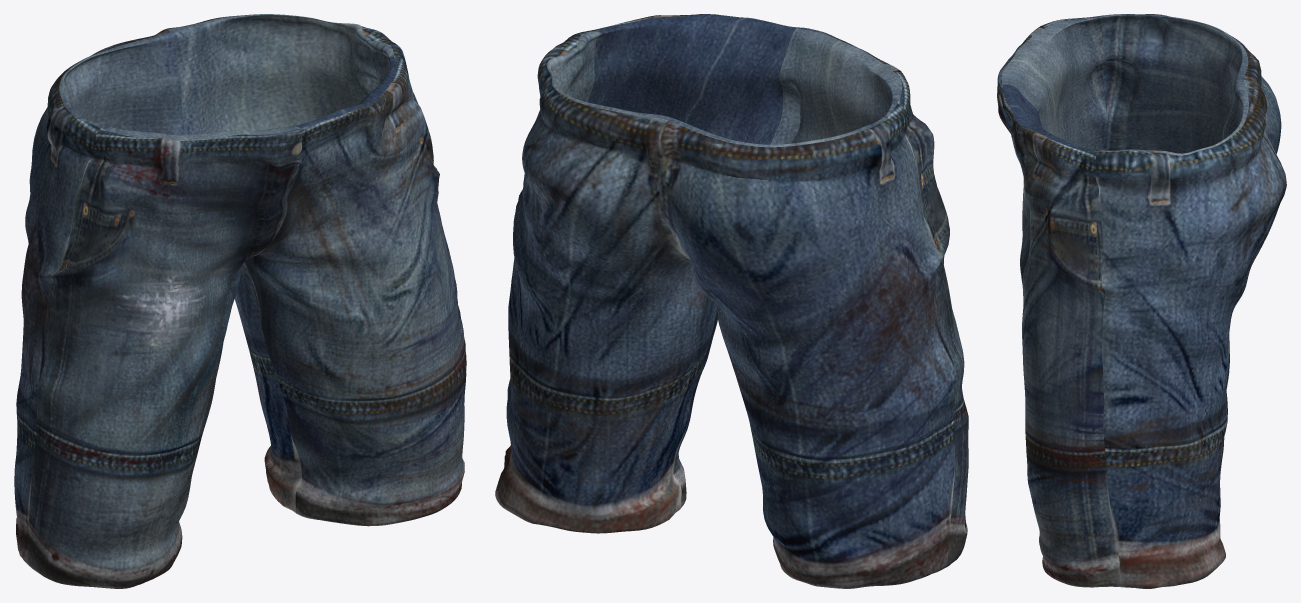
The model's file is jean_shorts.glb.
3 views of the same model, side by side, from view 1: azimuth 30°, elevation 25°; view 2: azimuth 150°, elevation 25°; view 3: azimuth 270°, elevation 25° (orthographic). The views are drawn at different scales.
Visible parts, largest first — view 1: hp; view 2: hp; view 3: hp.
Part boxes in pixels (left/top/right/bottom): hp: left=14, top=14, right=466, bottom=588; hp: left=495, top=14, right=968, bottom=588; hp: left=997, top=14, right=1286, bottom=588.
Bounding box in the file's own units: 1.17 × 1.19 × 0.7387.
1 material, 1 textured.
